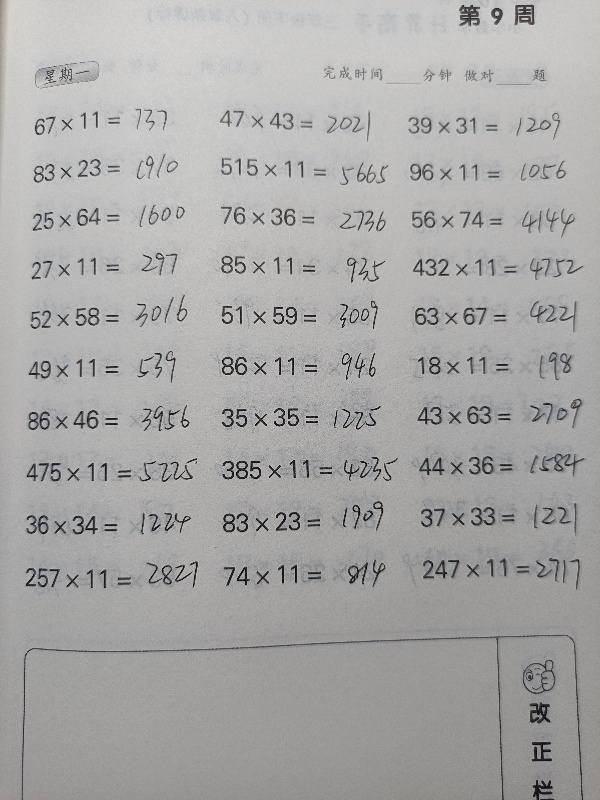equation: (406, 242, 586, 290), (413, 548, 593, 595), (215, 452, 400, 490), (17, 452, 197, 491), (16, 560, 196, 595), (214, 557, 394, 592), (17, 507, 197, 542), (213, 504, 393, 539), (19, 402, 199, 437), (214, 400, 394, 435), (20, 351, 200, 386), (411, 499, 591, 533), (410, 448, 590, 482), (408, 398, 588, 432), (409, 349, 589, 383), (213, 349, 393, 383), (21, 300, 201, 334), (212, 298, 392, 332), (23, 250, 203, 284), (212, 248, 392, 282), (211, 199, 391, 233), (24, 152, 204, 186), (406, 300, 586, 333), (23, 201, 203, 234), (401, 156, 581, 189), (25, 105, 205, 138), (211, 104, 391, 137), (403, 204, 583, 236), (212, 152, 392, 184), (400, 110, 580, 142)
